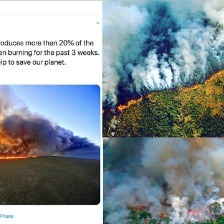incendio: (117, 146, 219, 224), (137, 36, 219, 102), (111, 84, 160, 123), (1, 125, 46, 164)
